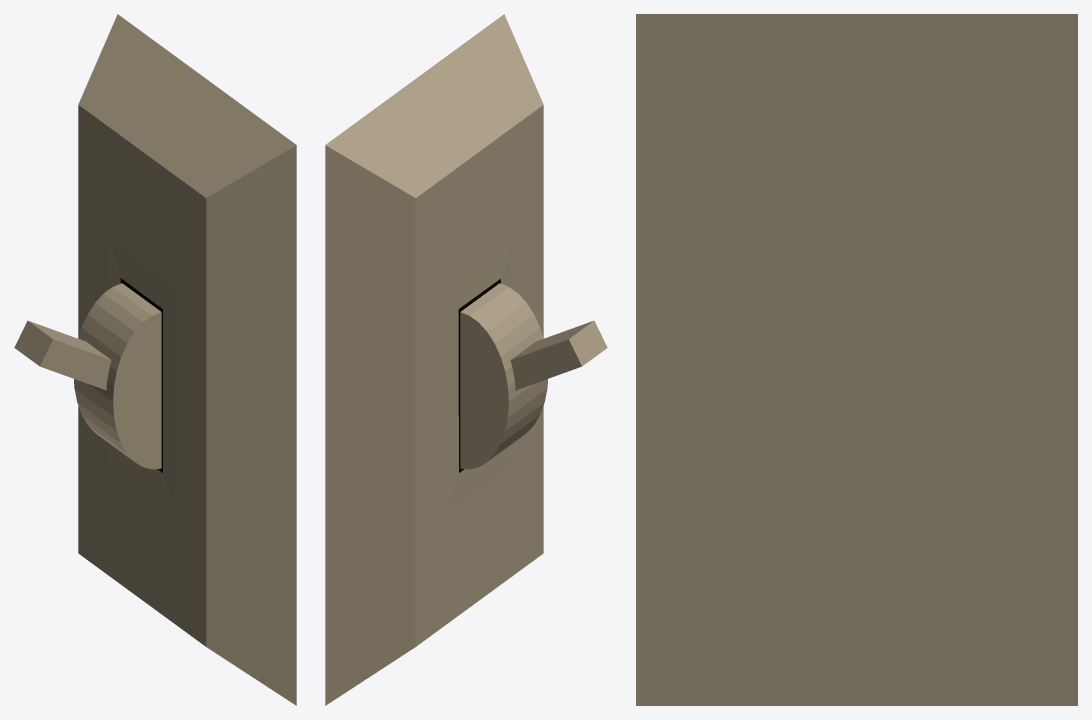
File: light_switch.glb
The picture shows the model from 3 angles, left to right: view 1: azimuth 30°, elevation 25°; view 2: azimuth 150°, elevation 25°; view 3: azimuth 270°, elevation 25°; orthographic projection. The views are drawn at different scales.
Visible parts, largest first — view 1: LightSwitchMesh; view 2: LightSwitchMesh; view 3: LightSwitchMesh.
Boxes of the visible parts, box(x1,y1,x2,y2) form: LightSwitchMesh: box(14, 14, 296, 705); LightSwitchMesh: box(325, 14, 607, 705); LightSwitchMesh: box(636, 14, 1077, 705).
Size of the model in its own units: 0.0457 by 0.1359 by 0.0786.
